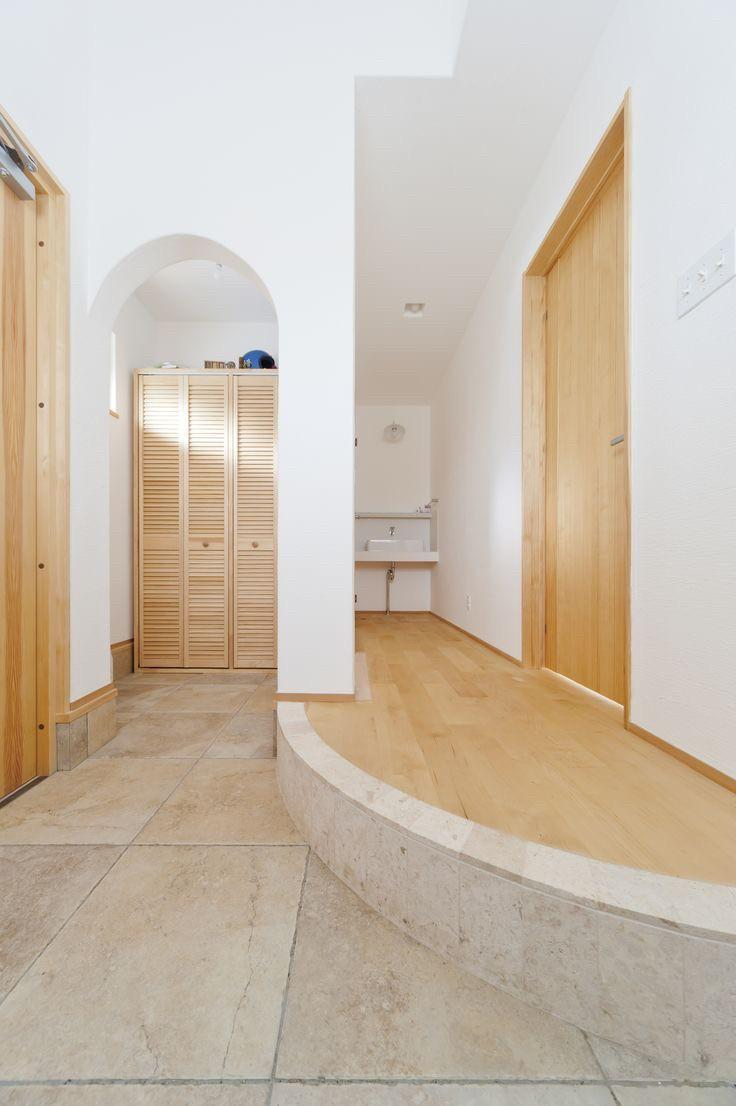floor: (0, 670, 735, 1105)
safe: (277, 614, 735, 934)
